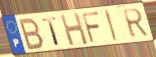B: (18, 17, 45, 52)
F: (81, 11, 103, 45)
H: (59, 11, 91, 48)
I: (104, 8, 120, 43)
R: (121, 7, 150, 40)
T: (41, 16, 62, 47)
